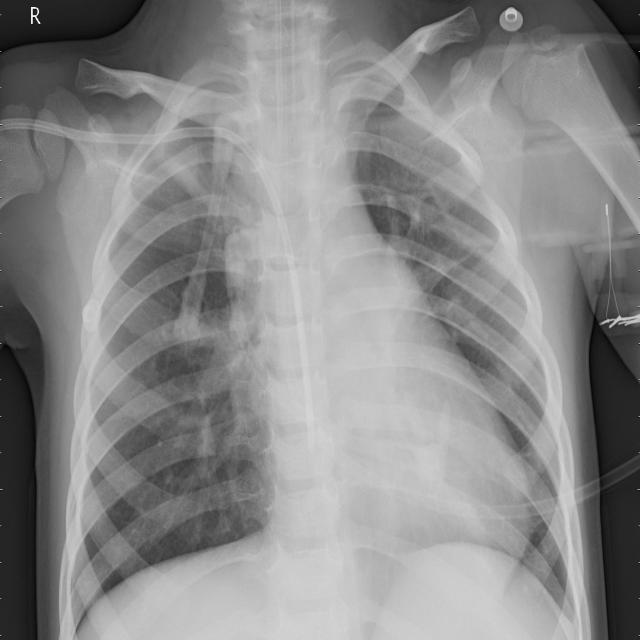low-pneumonia: (210, 213, 262, 434)
